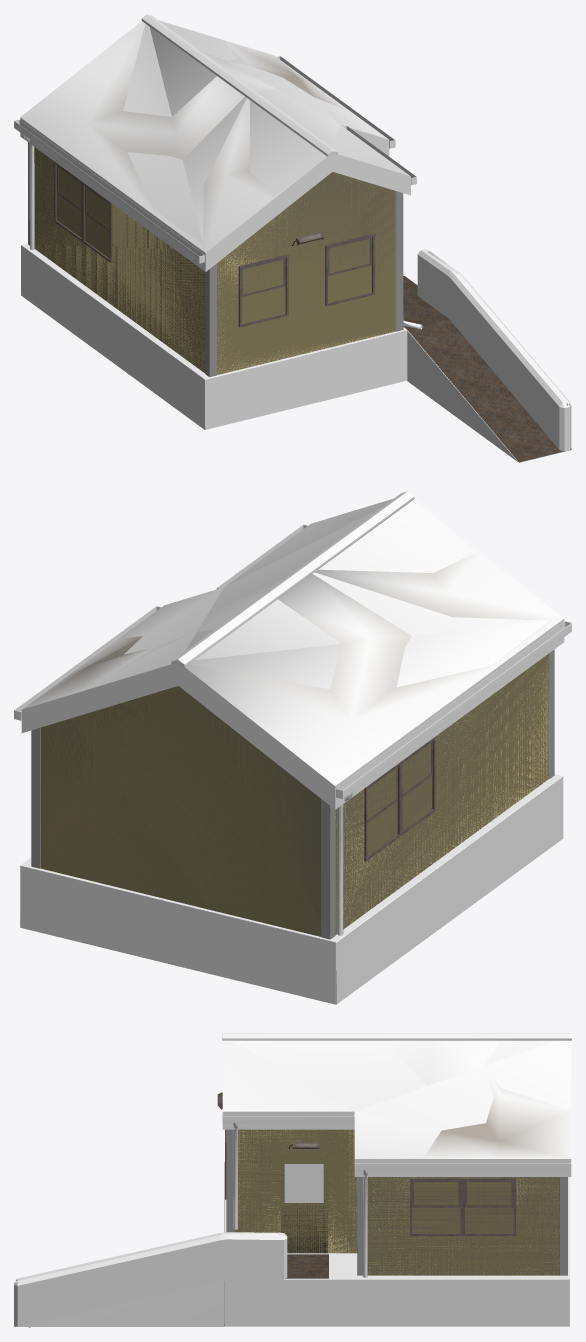
Rendered from weight_station_house.dae.
3 renders of one model, top to bottom at view 1: azimuth 30°, elevation 25°; view 2: azimuth 150°, elevation 25°; view 3: azimuth 270°, elevation 25°, orthographic. The views are drawn at different scales.
Parts seen in each view (by area): view 1: weight_sation_house_a3500, Colmesh_weight_sation_house-1, weight_sation_house_a40, weight_sation_house_a1100; view 2: Colmesh_weight_sation_house-1, weight_sation_house_a3500, weight_sation_house_a40, weight_sation_house_a1100, weight_sation_house_a350; view 3: Colmesh_weight_sation_house-1, weight_sation_house_a3500, weight_sation_house_a40, weight_sation_house_a150, weight_sation_house_a1100, weight_sation_house_a350.
Part boxes in pixels (x1,y1,x2,y2): weight_sation_house_a3500: (14,14,571,462); Colmesh_weight_sation_house-1: (20,20,571,451); weight_sation_house_a40: (34,147,570,462); weight_sation_house_a1100: (15,56,416,261); Colmesh_weight_sation_house-1: (21,499,564,936); weight_sation_house_a3500: (14,491,571,1004); weight_sation_house_a40: (20,653,548,1004); weight_sation_house_a1100: (16,524,570,934); weight_sation_house_a350: (40,689,549,938); Colmesh_weight_sation_house-1: (14,1040,571,1326); weight_sation_house_a3500: (14,1033,571,1327); weight_sation_house_a40: (15,1129,559,1326); weight_sation_house_a150: (280,1164,327,1253); weight_sation_house_a1100: (29,1040,571,1327); weight_sation_house_a350: (14,1123,567,1327).
Size of the model in its own units: 5.52 by 10.64 by 4.98.
